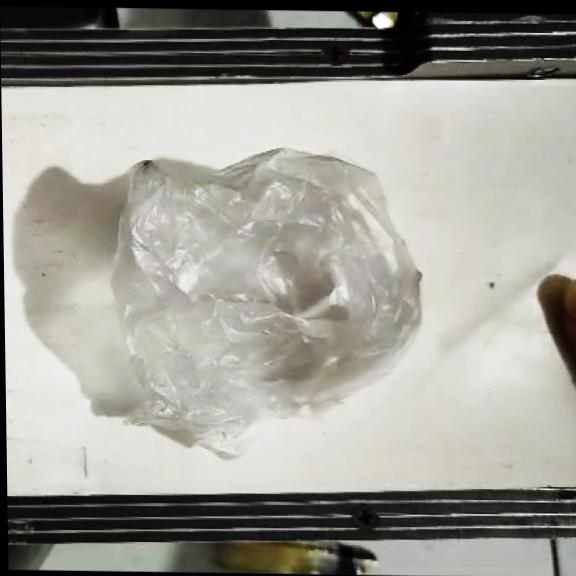Plastik: (117, 147, 425, 459)
